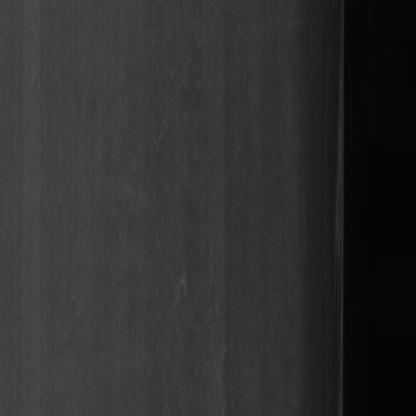silk_spot: (150, 244, 239, 364), (136, 78, 212, 180)
